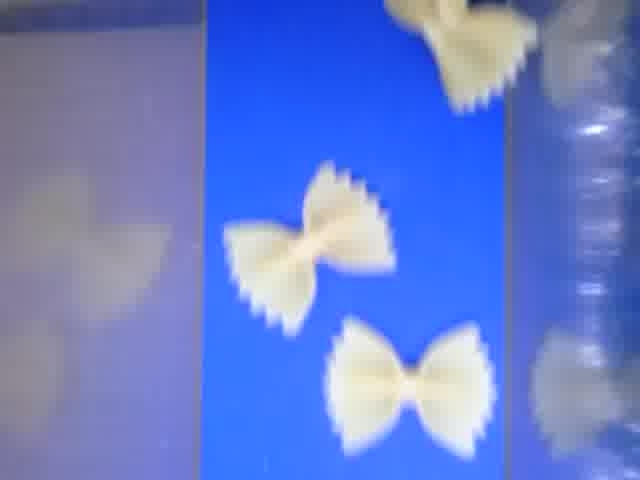farfalle: (223, 162, 397, 339), (324, 316, 496, 455), (383, 1, 537, 114)
